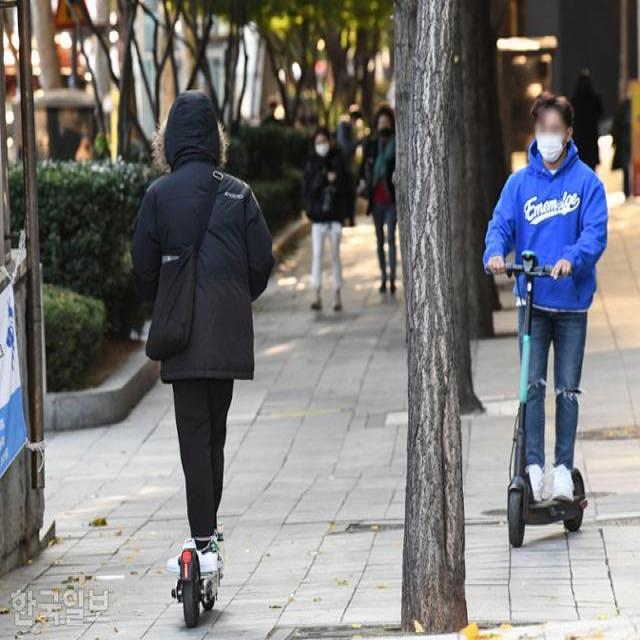non-helmet: (108, 56, 284, 640), (463, 62, 627, 563)
